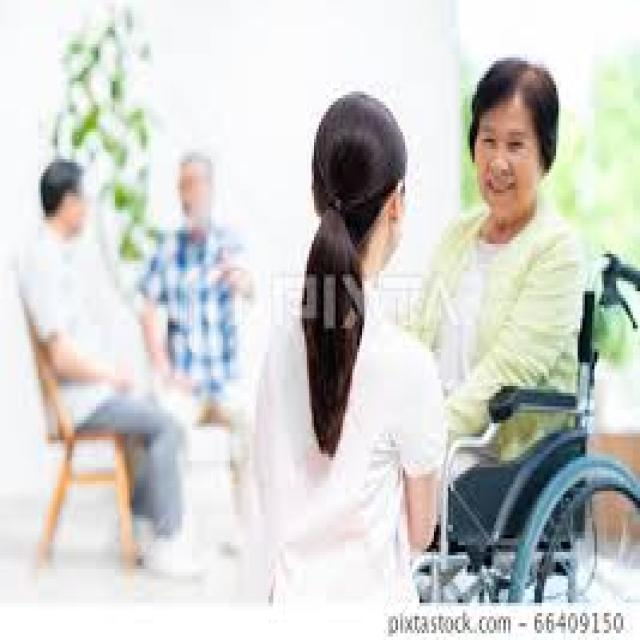wheelchairs: (396, 210, 638, 599)
